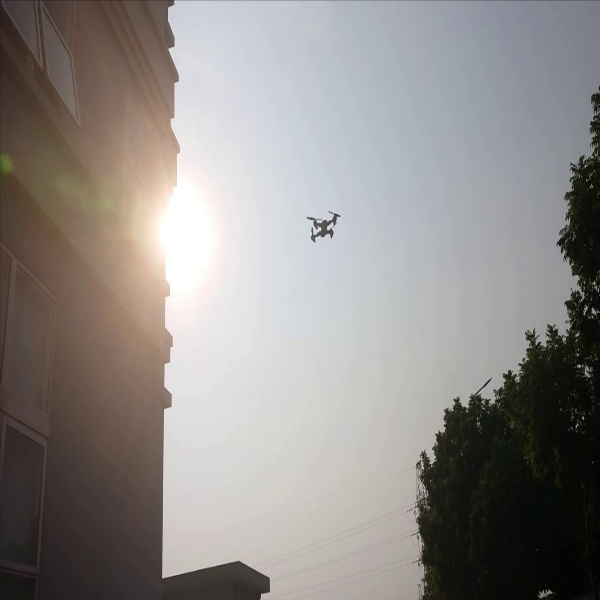drone: (305, 206, 347, 246)
